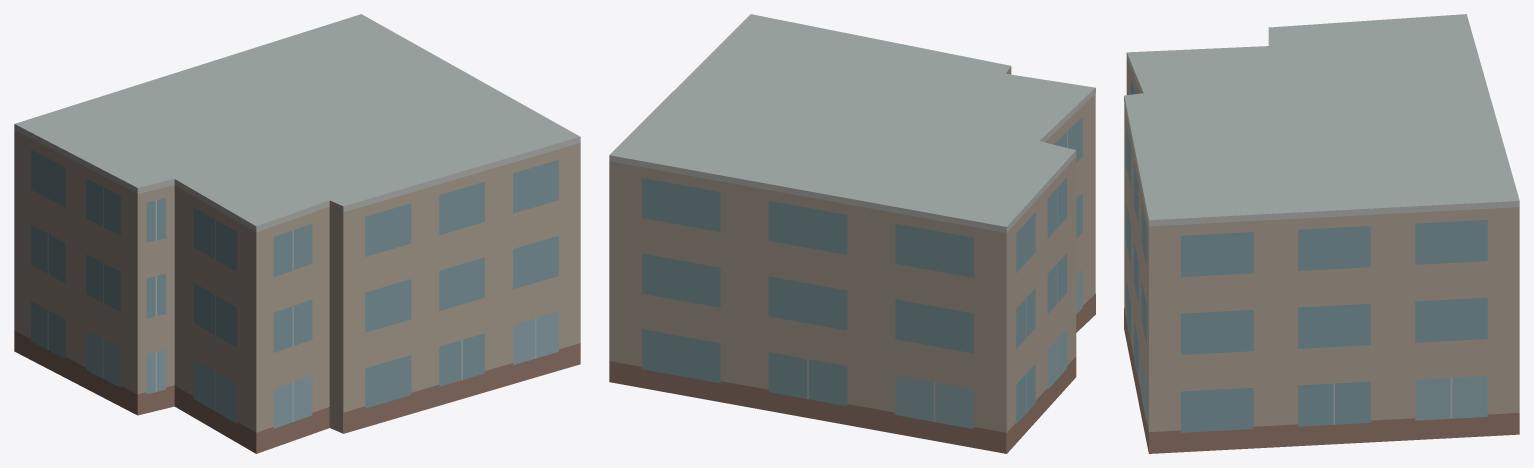
The model's file is survey-upis-32964060.glb.
3 renders of one model, left to right at view 1: azimuth 30°, elevation 25°; view 2: azimuth 150°, elevation 25°; view 3: azimuth 270°, elevation 25°, orthographic. The views are drawn at different scales.
Parts seen in each view (by area): view 1: survey-upis-32964060.tmp; view 2: survey-upis-32964060.tmp; view 3: survey-upis-32964060.tmp.
Part boxes in pixels (left/top/right/bottom): survey-upis-32964060.tmp: left=14, top=14, right=580, bottom=453; survey-upis-32964060.tmp: left=609, top=14, right=1095, bottom=453; survey-upis-32964060.tmp: left=1124, top=14, right=1519, bottom=453.
Size of the model in its own units: 17.33 by 9.15 by 14.05.
